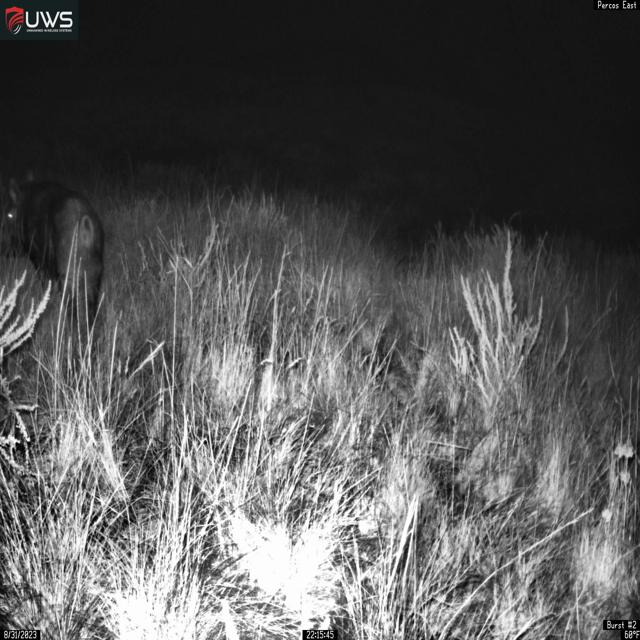pig: (0, 172, 105, 340)
